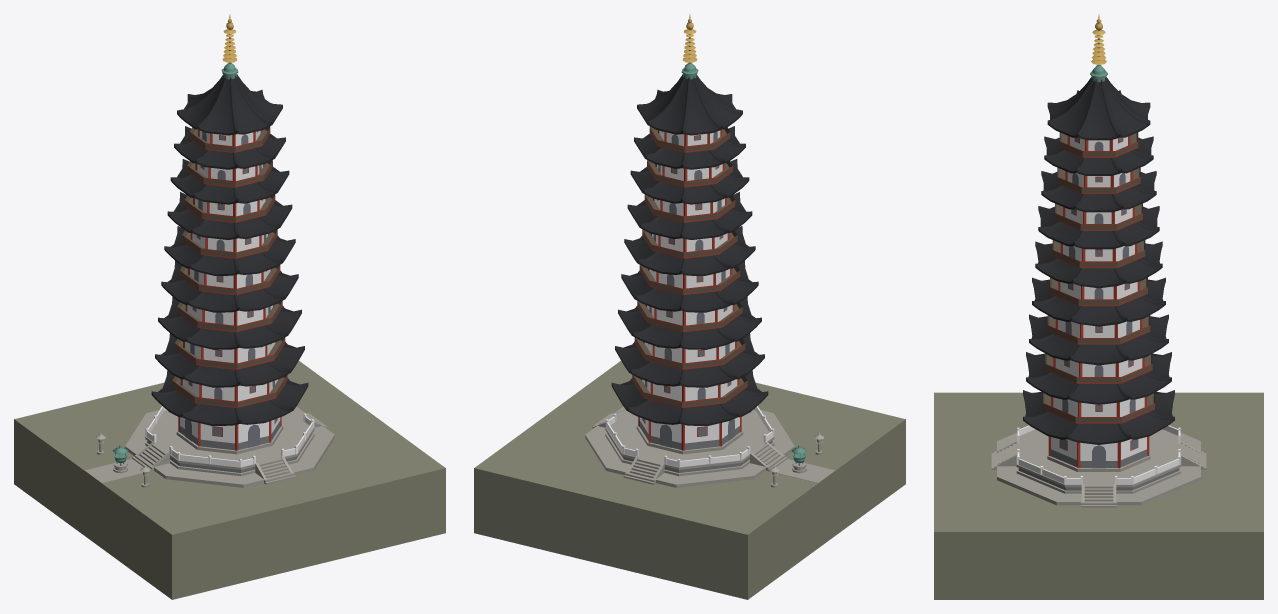
Rendered from top-prebuilt.fbx.
3 views of the same model, side by side, from view 1: azimuth 30°, elevation 25°; view 2: azimuth 150°, elevation 25°; view 3: azimuth 270°, elevation 25° (orthographic). The views are drawn at different scales.
Parts seen in each view (by area): view 1: landmark-octagonal_pagoda/0/top-prebuilt; view 2: landmark-octagonal_pagoda/0/top-prebuilt; view 3: landmark-octagonal_pagoda/0/top-prebuilt.
Boxes of the visible parts, x1,y1,x2,y2 form: landmark-octagonal_pagoda/0/top-prebuilt: [14, 14, 445, 599]; landmark-octagonal_pagoda/0/top-prebuilt: [474, 14, 905, 599]; landmark-octagonal_pagoda/0/top-prebuilt: [934, 14, 1263, 599].
Bounding box in the file's own units: 44 × 76 × 44.
